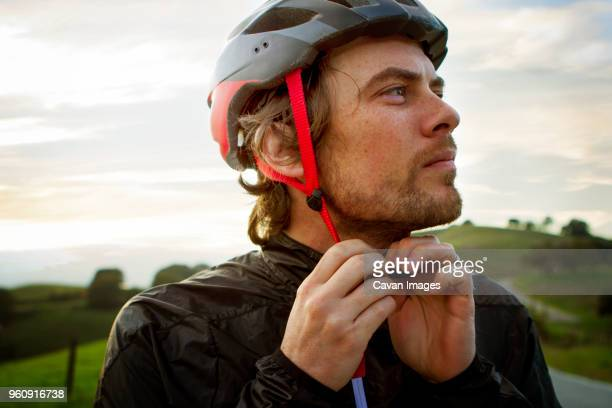helmet: (207, 1, 461, 227)
